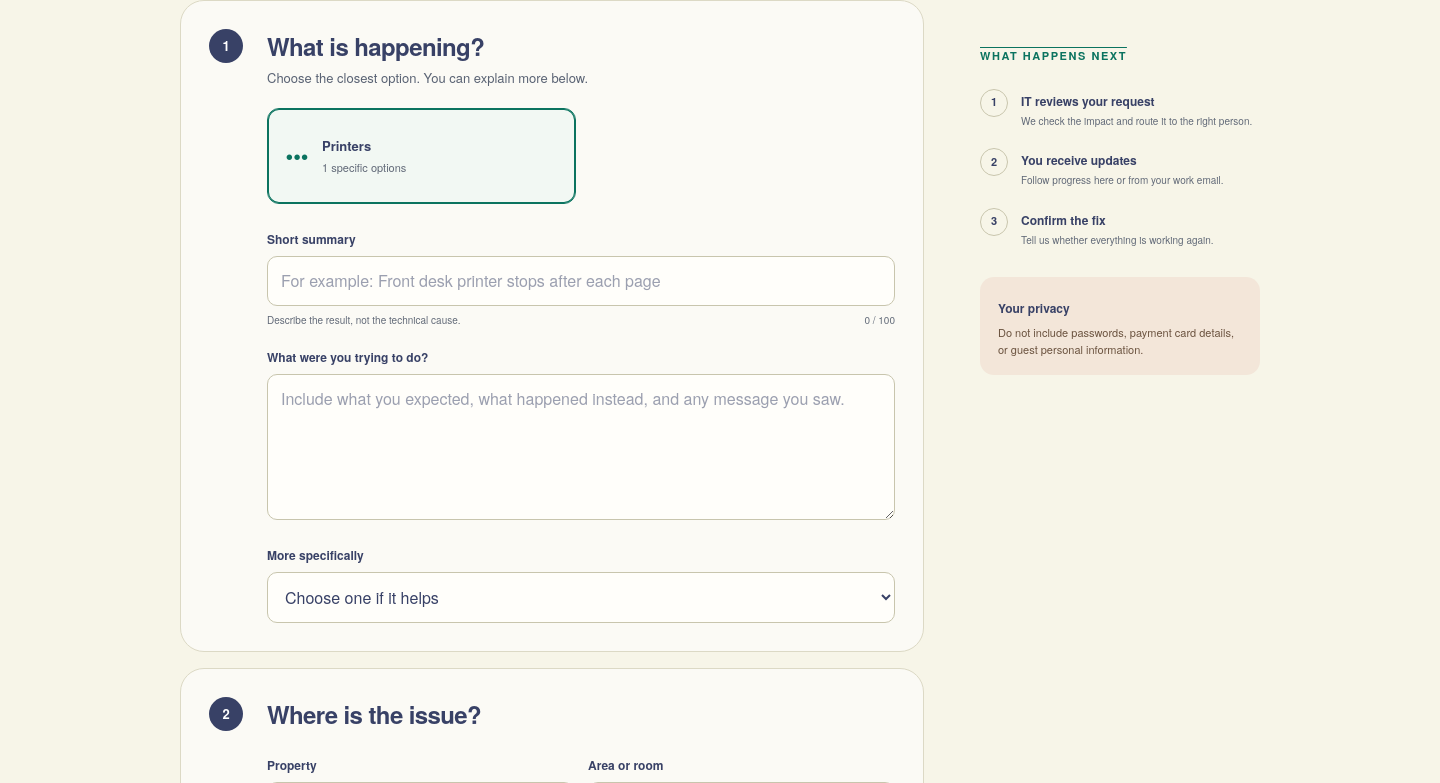
Scenario: service desk interactions › updates the ticket summary count and posts to the ticket submission route
The image size is (1440, 783).
Type "Printer is offline" into the field labelled "Short summary" at point(581, 281), box [267,256,895,306]
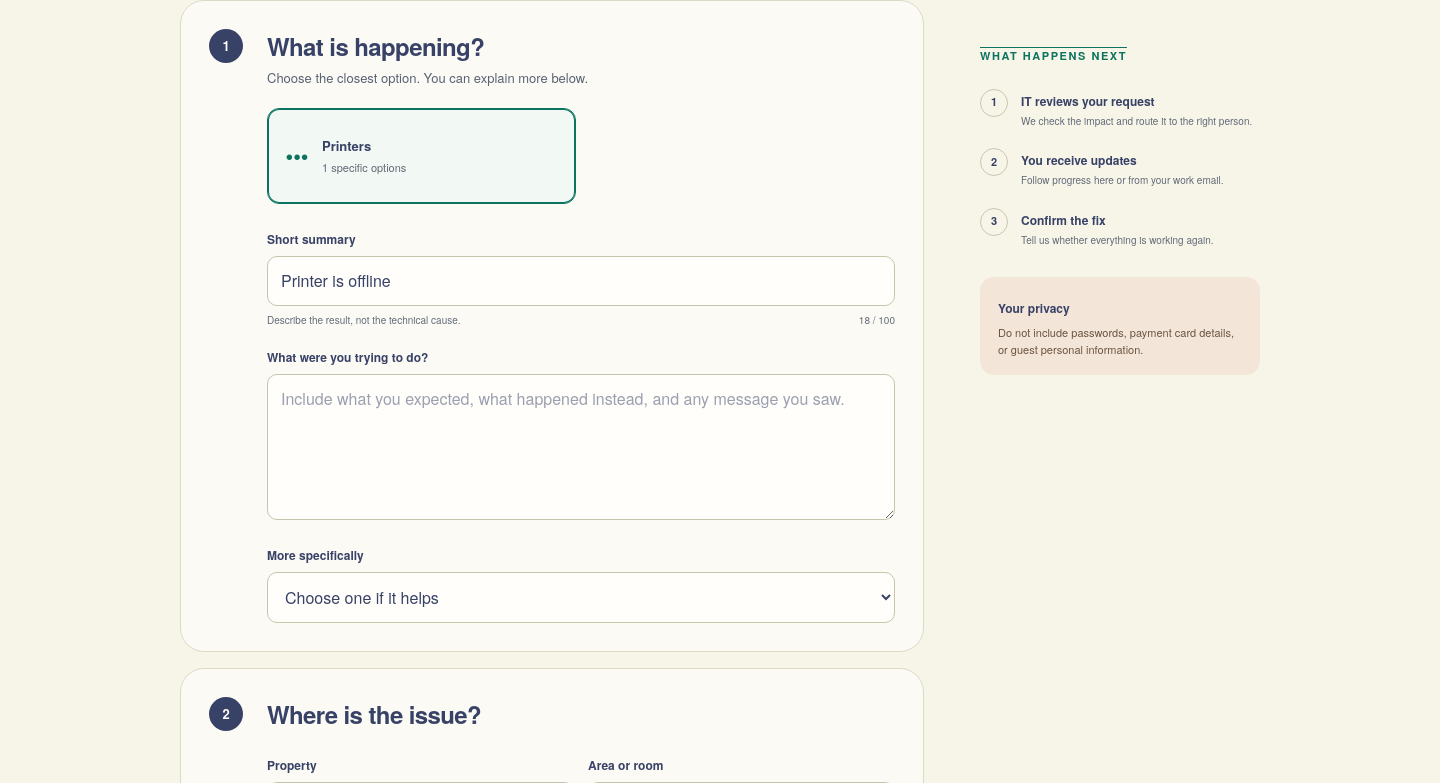
Expected: the radio button labelled "••• Printers 1 specific options" is checked, [267,108,576,204]
Expected: the text "18 / 100" is shown, [859,313,895,328]
